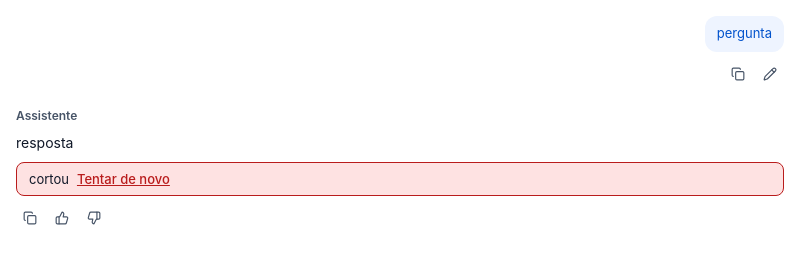
AIChat › wires feedback, edit and retry down to the turns
The width and height of the screenshot is (801, 261).
What coordinates should you click on to do the following:
click the button named "Boa resposta"
I would click on:
 (62, 218)
Its box is [48,204,76,232].
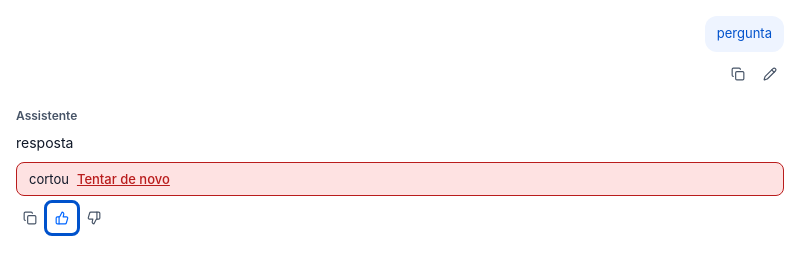
What coordinates should you click on to do the following:
click the button "Tentar de novo"
I would click on:
 (123, 179)
Its box is [77,171,170,187].
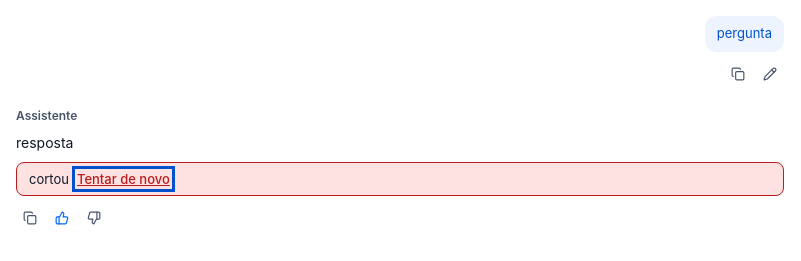
What coordinates should you click on to do the following:
click the button named "Editar"
I would click on:
 (770, 74)
Its box is [756,60,784,88].
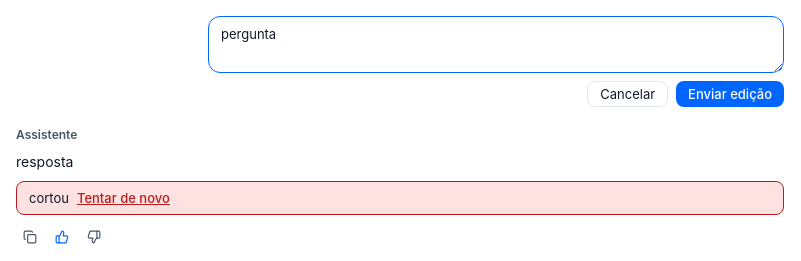
expect the text box holds "pergunta": met, box [208,16,784,73]
